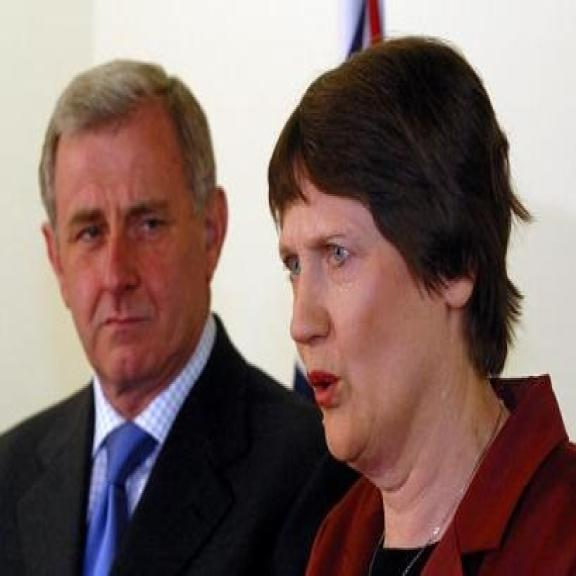face: (262, 162, 476, 474), (41, 117, 236, 398)
